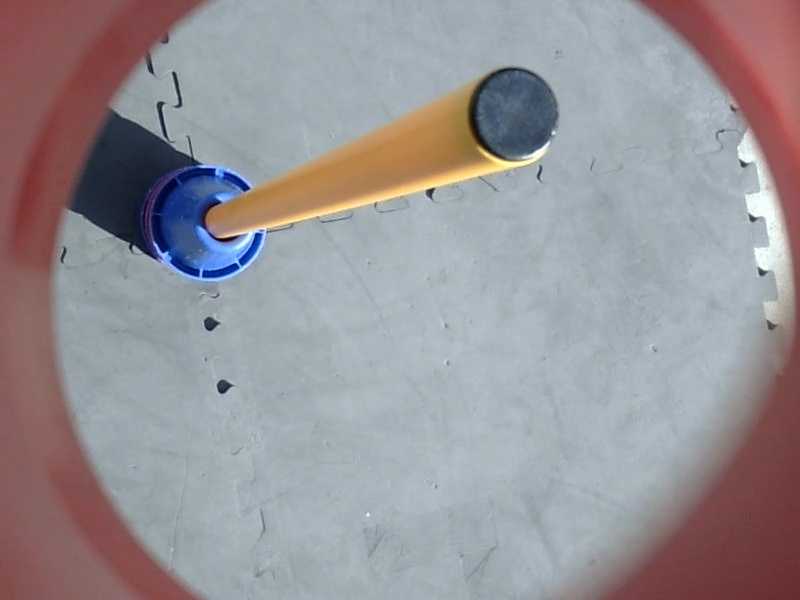tip: (462, 63, 566, 171)
